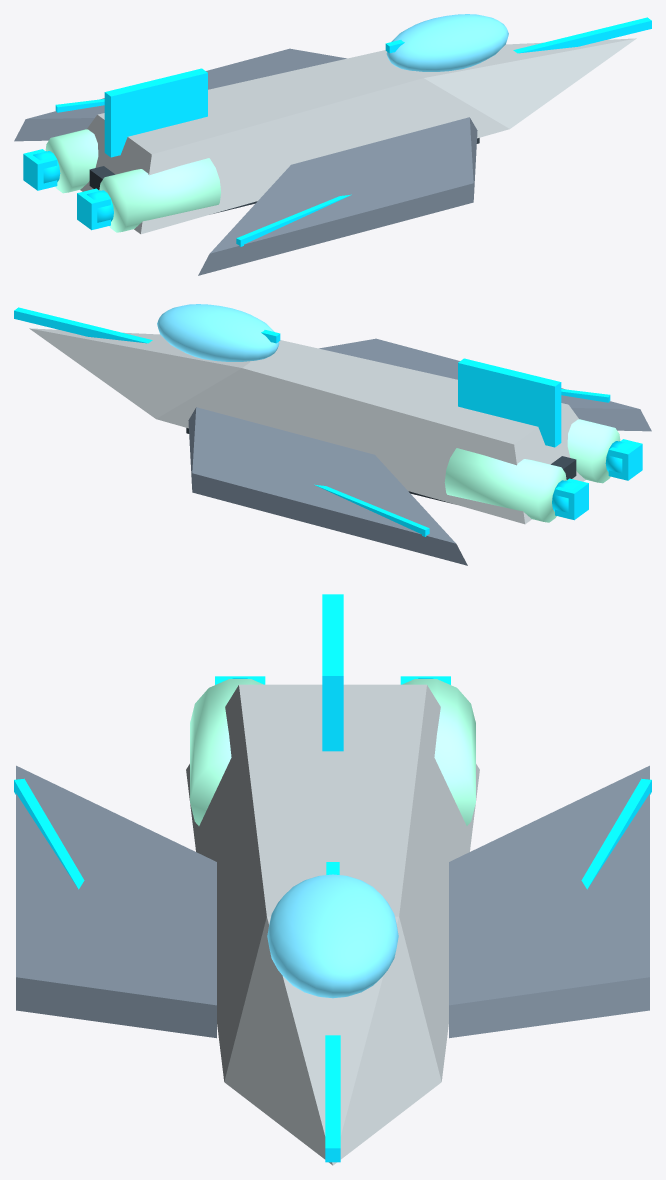
Rendered from prototype_swift.glb.
3 renders of one model, top to bottom at view 1: azimuth 30°, elevation 25°; view 2: azimuth 150°, elevation 25°; view 3: azimuth 270°, elevation 25°, orthographic. The views are drawn at different scales.
Visible parts, largest first — view 1: SwiftHull, SwiftRightNeedleWing, SwiftRightEngine, SwiftTailFin, SwiftCanopy, SwiftLeftNeedleWing, SwiftLeftEngine, SwiftNoseStripe, SwiftLeftTrailEmitter, SwiftRightTrailEmitter, SwiftRightEdgeLight, SwiftLeftEngineCore (+2 smaller); view 2: SwiftHull, SwiftLeftNeedleWing, SwiftLeftEngine, SwiftTailFin, SwiftCanopy, SwiftRightNeedleWing, SwiftRightEngine, SwiftNoseStripe, SwiftRightTrailEmitter, SwiftLeftTrailEmitter, SwiftLeftEdgeLight, SwiftLeftEngineCore (+2 smaller); view 3: SwiftHull, SwiftLeftNeedleWing, SwiftRightNeedleWing, SwiftCanopy, SwiftLeftEngine, SwiftRightEngine, SwiftTailFin, SwiftNoseStripe, SwiftLeftEdgeLight, SwiftRightEdgeLight.
Boxes of the visible parts, x1=… form: SwiftHull: x1=80, y1=38, x2=636, y2=234; SwiftRightNeedleWing: x1=198, y1=117, x2=477, y2=275; SwiftRightEngine: x1=99, y1=158, x2=221, y2=232; SwiftTailFin: x1=104, y1=68, x2=207, y2=157; SwiftCanopy: x1=386, y1=14, x2=508, y2=71; SwiftLeftNeedleWing: x1=14, y1=48, x2=346, y2=141; SwiftLeftEngine: x1=45, y1=129, x2=98, y2=193; SwiftNoseStripe: x1=513, y1=17, x2=651, y2=53; SwiftLeftTrailEmitter: x1=23, y1=149, x2=57, y2=190; SwiftRightTrailEmitter: x1=77, y1=188, x2=110, y2=230; SwiftRightEdgeLight: x1=236, y1=194, x2=351, y2=246; SwiftLeftEngineCore: x1=33, y1=151, x2=60, y2=183; SwiftHull: x1=29, y1=328, x2=585, y2=524; SwiftLeftNeedleWing: x1=188, y1=407, x2=467, y2=565; SwiftLeftEngine: x1=444, y1=448, x2=566, y2=522; SwiftTailFin: x1=458, y1=358, x2=561, y2=447; SwiftCanopy: x1=157, y1=304, x2=279, y2=361; SwiftRightNeedleWing: x1=319, y1=338, x2=651, y2=431; SwiftRightEngine: x1=567, y1=419, x2=620, y2=483; SwiftNoseStripe: x1=14, y1=307, x2=152, y2=343; SwiftRightTrailEmitter: x1=608, y1=439, x2=642, y2=480; SwiftLeftTrailEmitter: x1=555, y1=478, x2=588, y2=520; SwiftLeftEdgeLight: x1=314, y1=484, x2=429, y2=536; SwiftLeftEngineCore: x1=552, y1=480, x2=578, y2=512; SwiftHull: x1=186, y1=684, x2=479, y2=1165; SwiftLeftNeedleWing: x1=449, y1=765, x2=649, y2=1038; SwiftRightNeedleWing: x1=16, y1=765, x2=216, y2=1038; SwiftCanopy: x1=267, y1=874, x2=398, y2=998; SwiftLeftEngine: x1=402, y1=679, x2=475, y2=825; SwiftRightEngine: x1=190, y1=679, x2=263, y2=825; SwiftTailFin: x1=322, y1=594, x2=343, y2=751; SwiftNoseStripe: x1=325, y1=1035, x2=340, y2=1162; SwiftLeftEdgeLight: x1=581, y1=778, x2=651, y2=889; SwiftRightEdgeLight: x1=14, y1=778, x2=84, y2=889.
Size of what is drawn, in the model's own units: 3.05 by 0.7 by 1.65.
